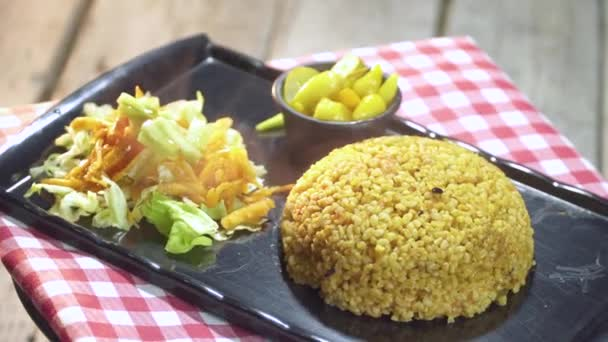chopped lettuce: (91, 106, 208, 158)
